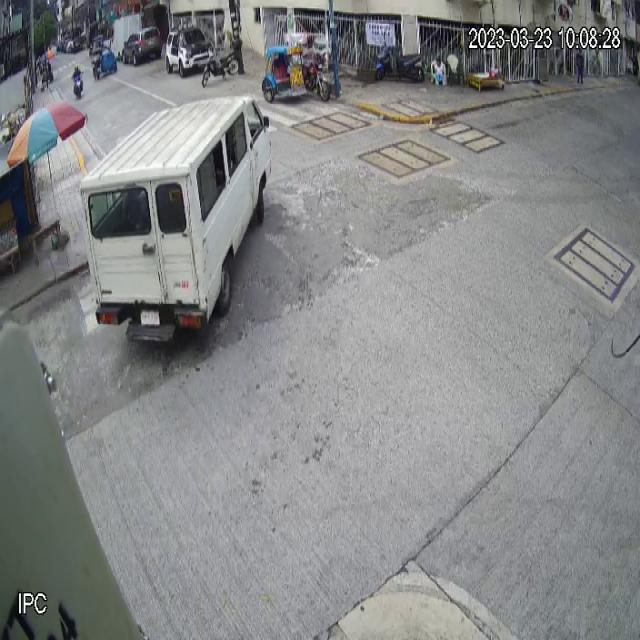Tricycle: (262, 44, 330, 104)
Van: (78, 94, 272, 346)
